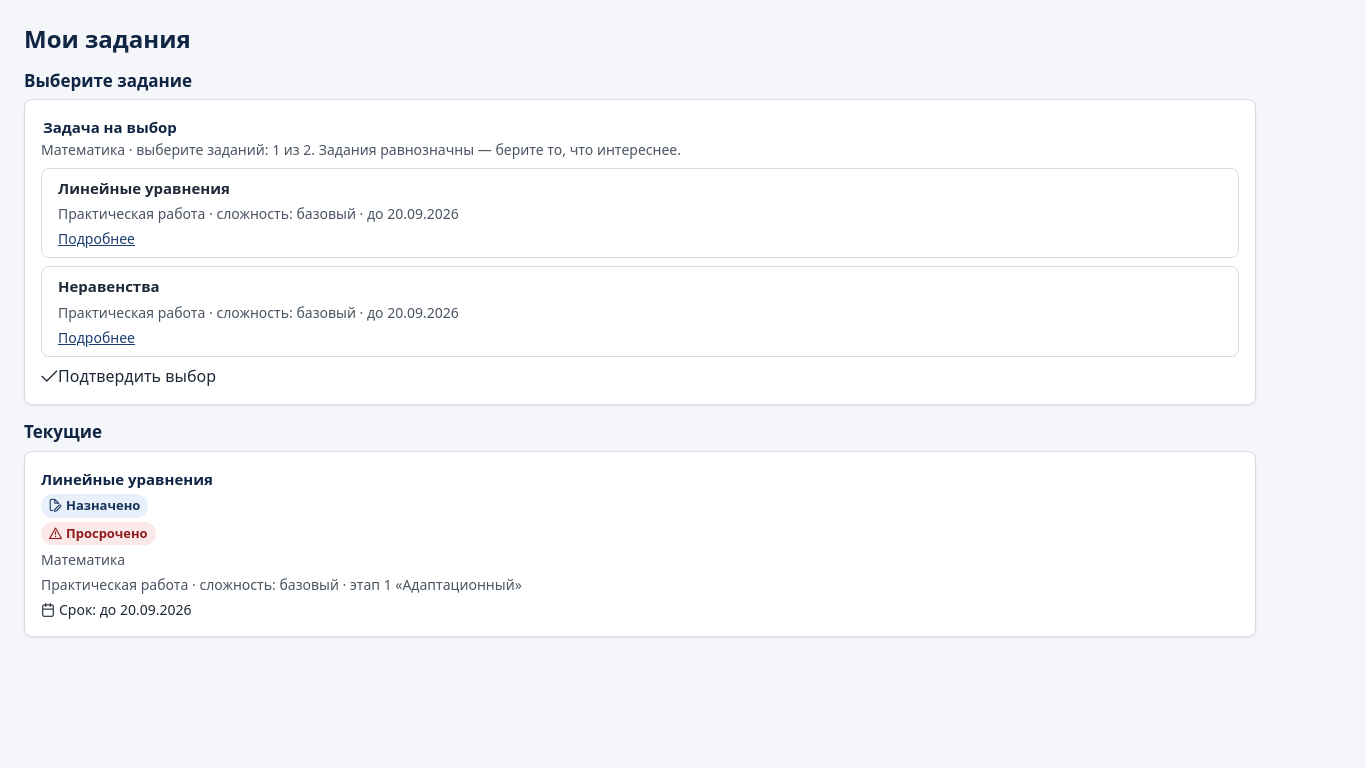
Scenario: кабинет студента: траектория и задания › FR-054: студент выбирает задание из набора; без выбора — подсказка
Click the button "Подтвердить выбор". click: (128, 376)
box: x1=41 y1=365 x2=216 y2=387
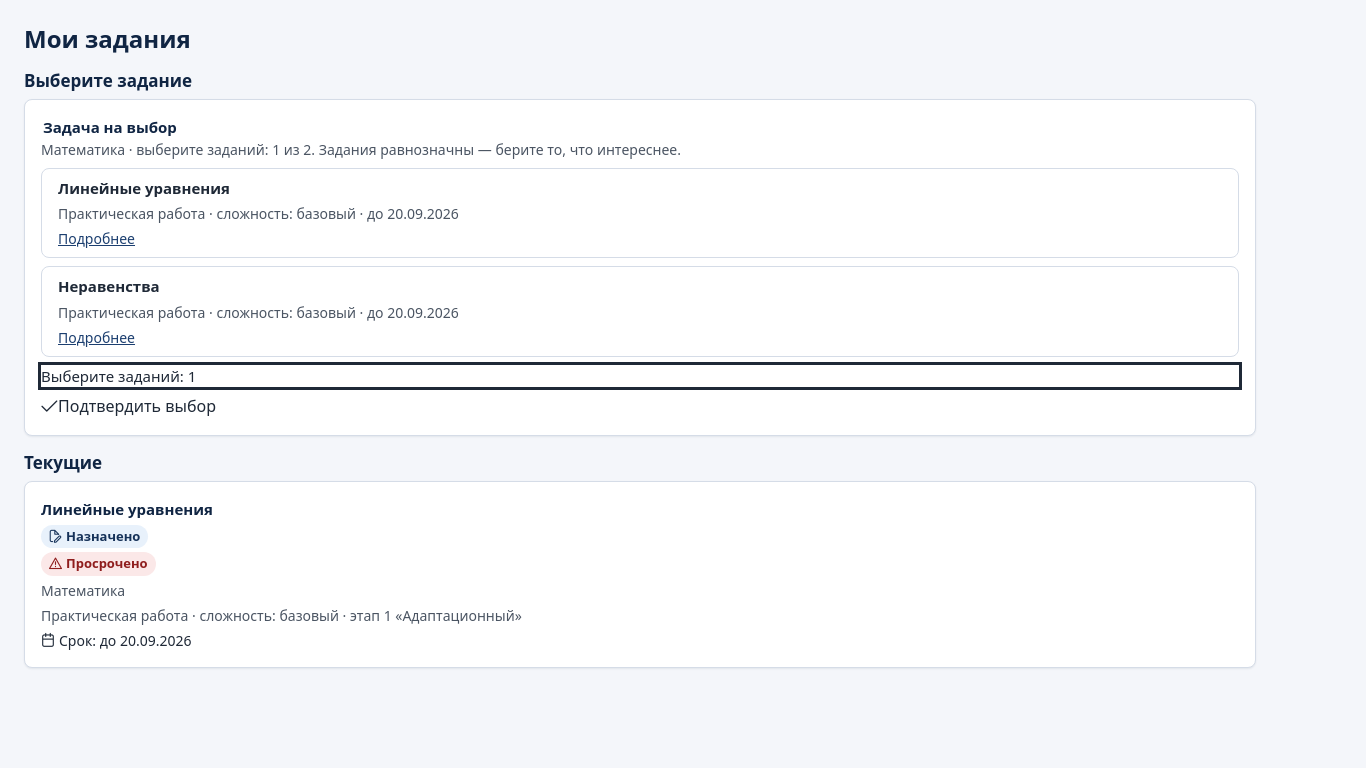
Expected: the text "выберите заданий: 1" is shown, x1=41 y1=140 x2=681 y2=159
Click the checkbox with id "option-o2". click: (109, 286)
box: x1=58 y1=276 x2=459 y2=322
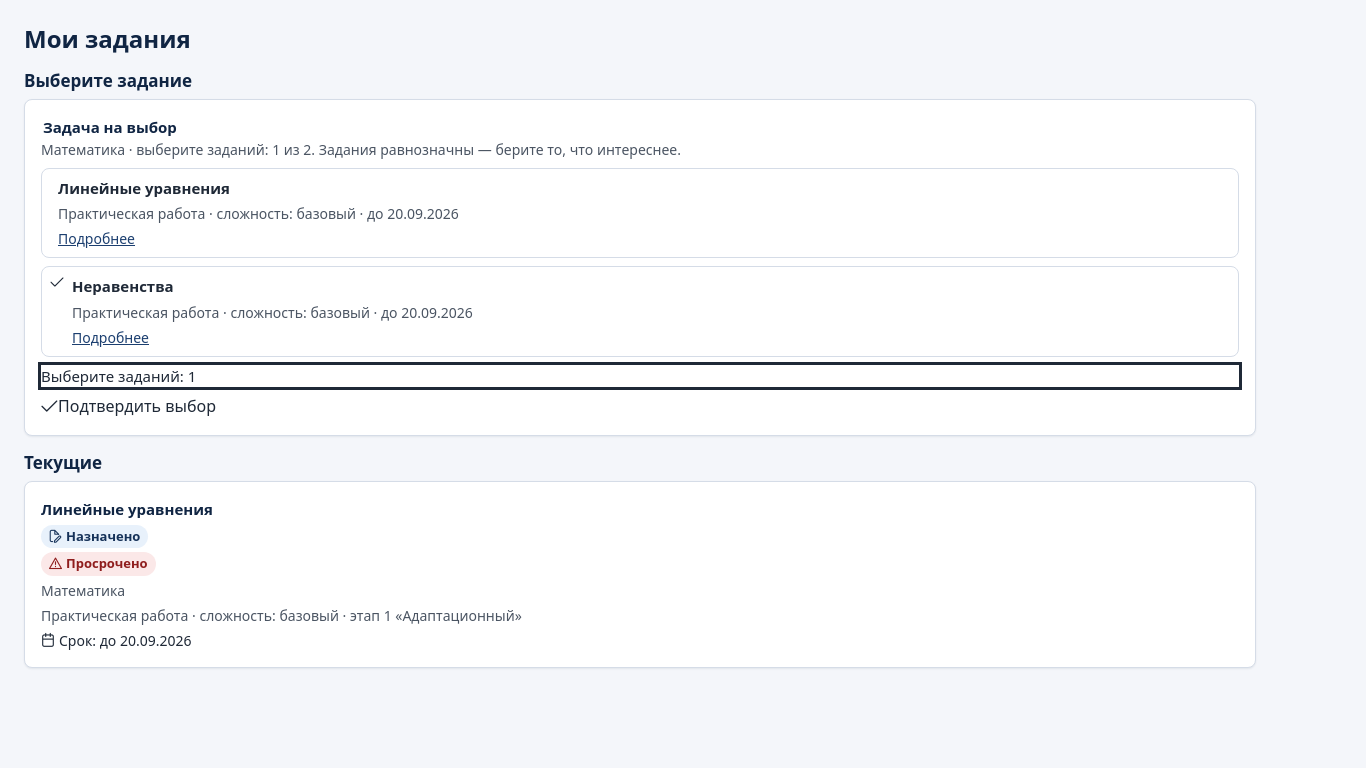
Click the button "Подтвердить выбор". click: (128, 406)
box: x1=41 y1=395 x2=216 y2=417
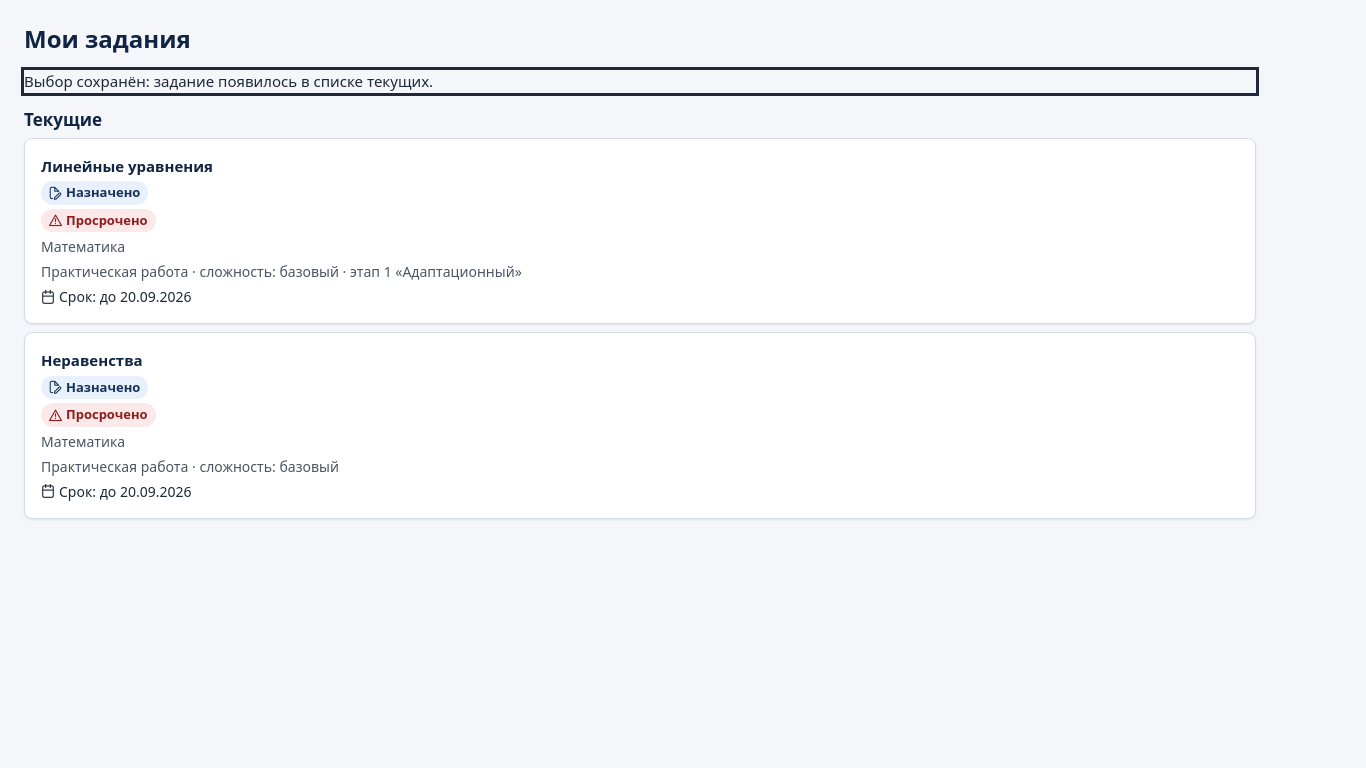
Expected: the text "Выбор сохранён" is shown, x1=24 y1=71 x2=433 y2=91
Expected: the text "Подтвердить выбор" is gone
